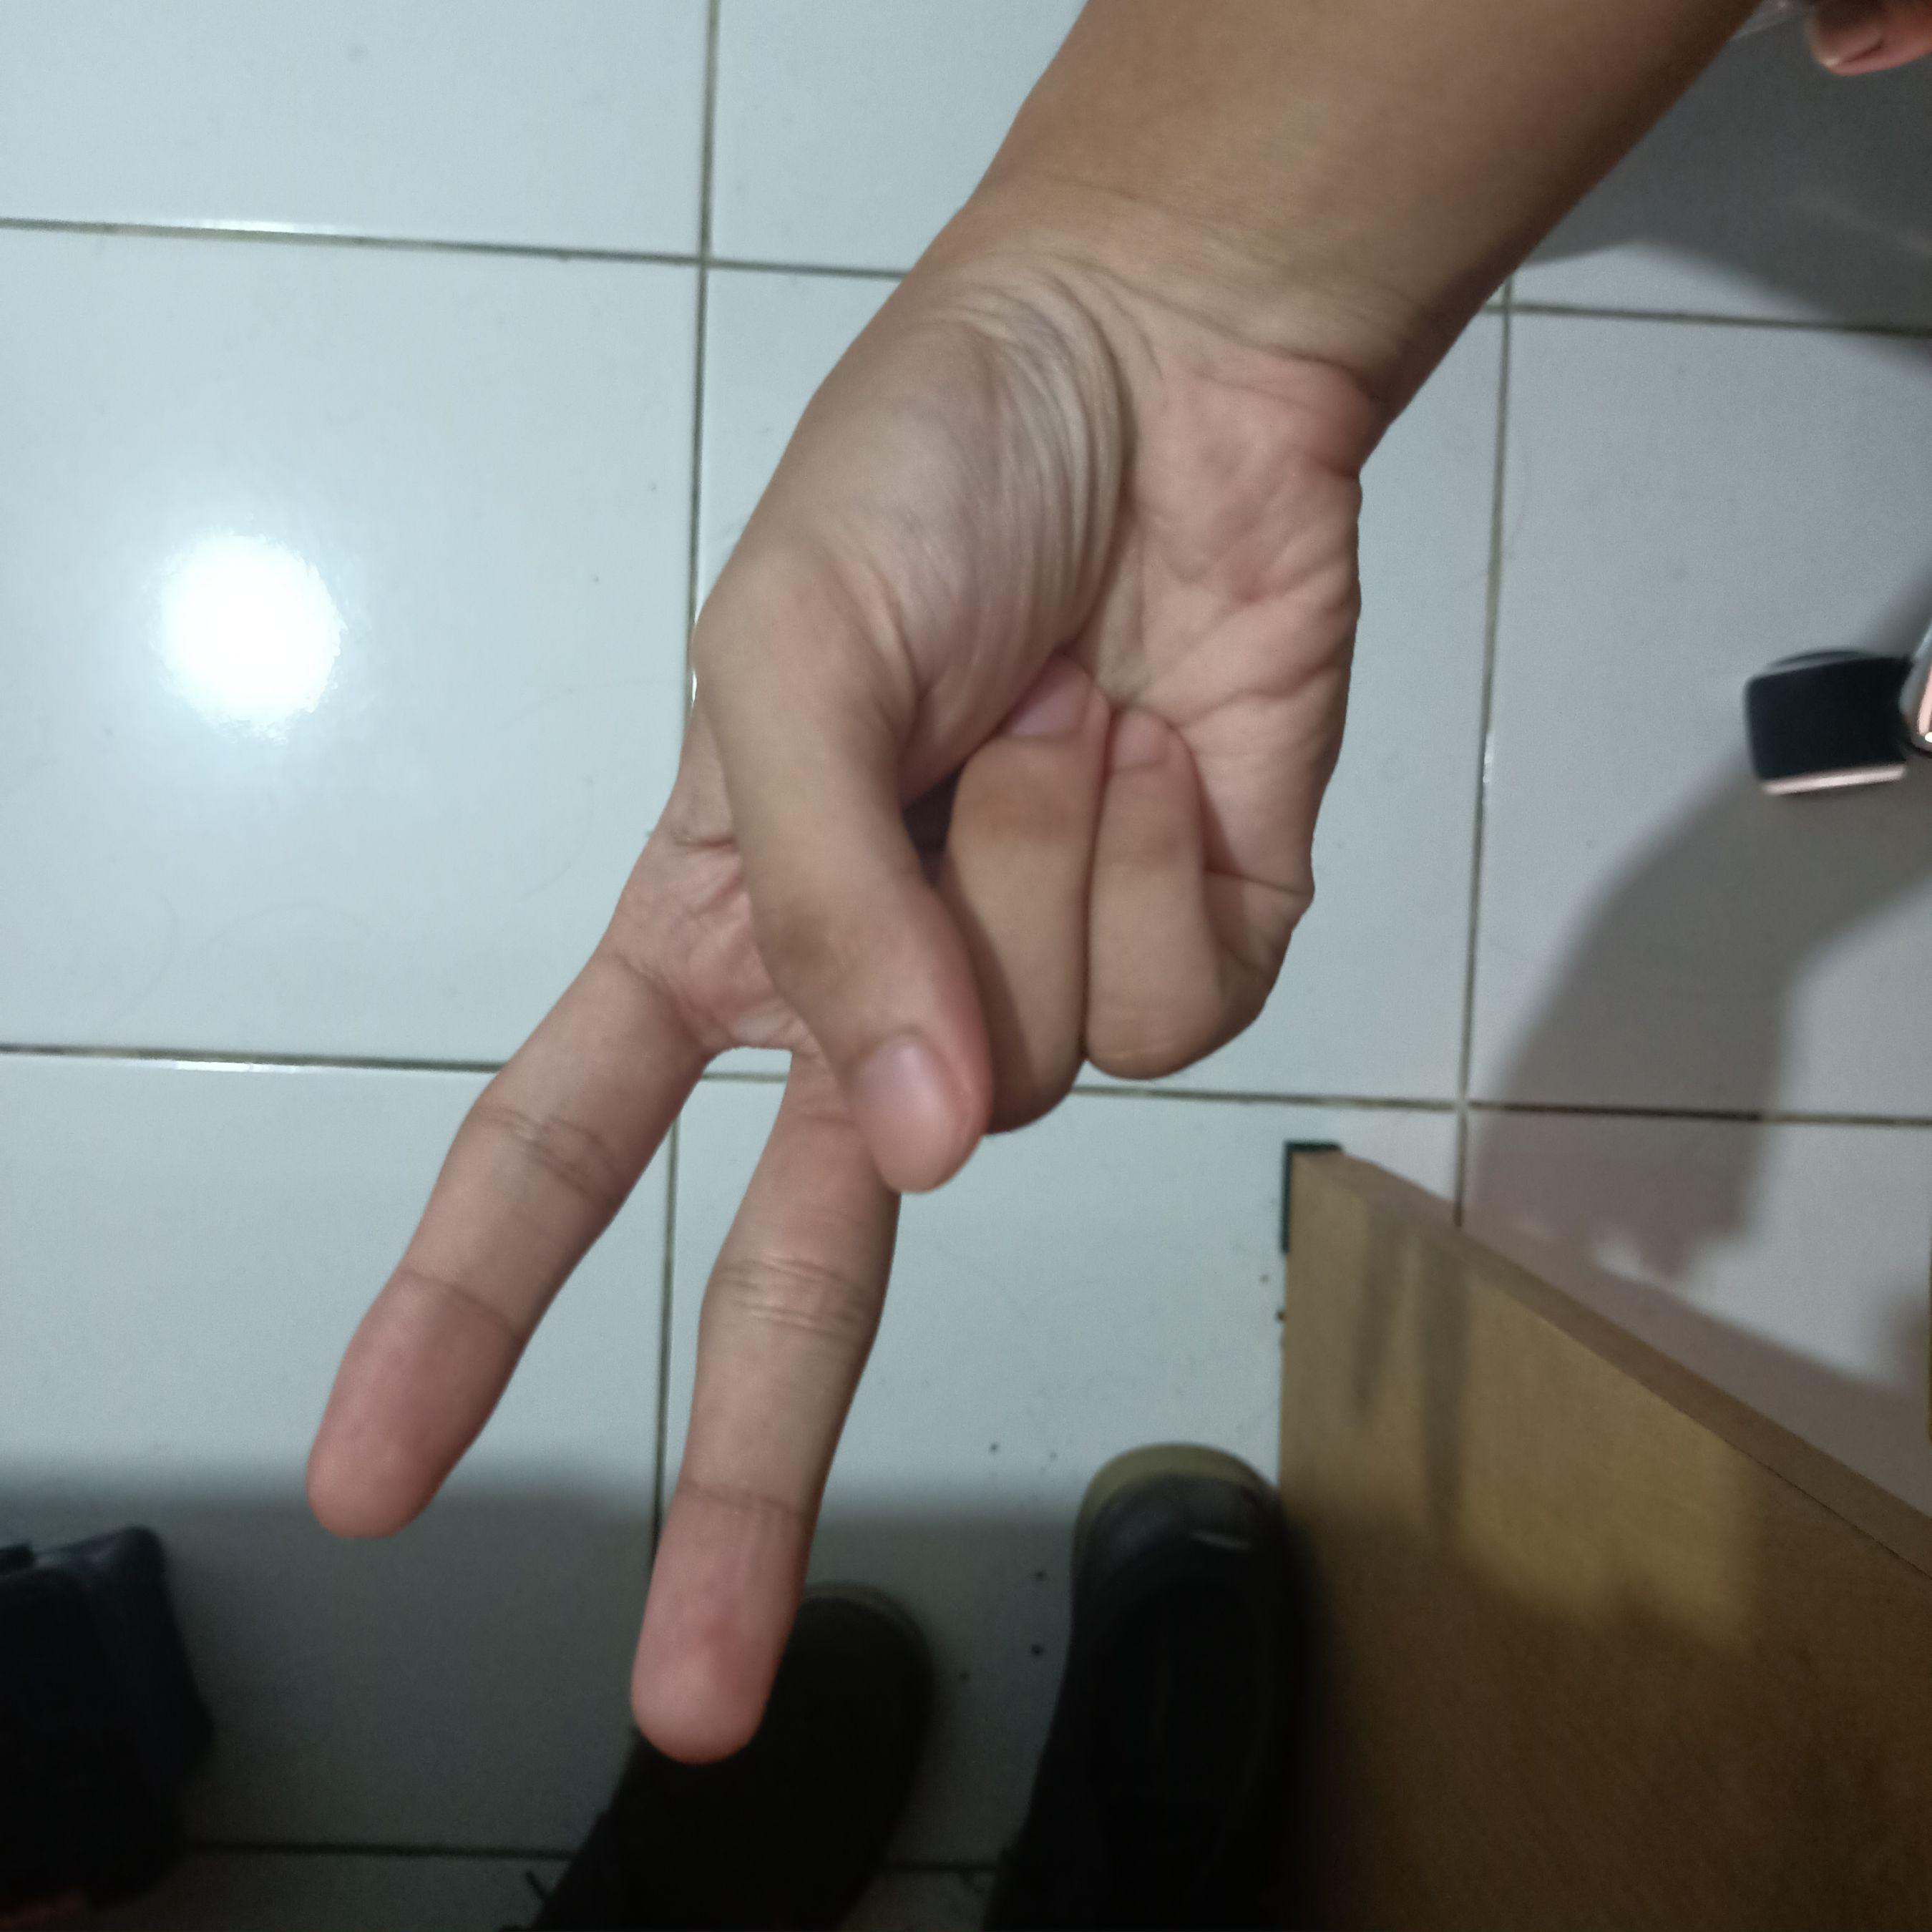scissors: (278, 241, 1384, 1759)
